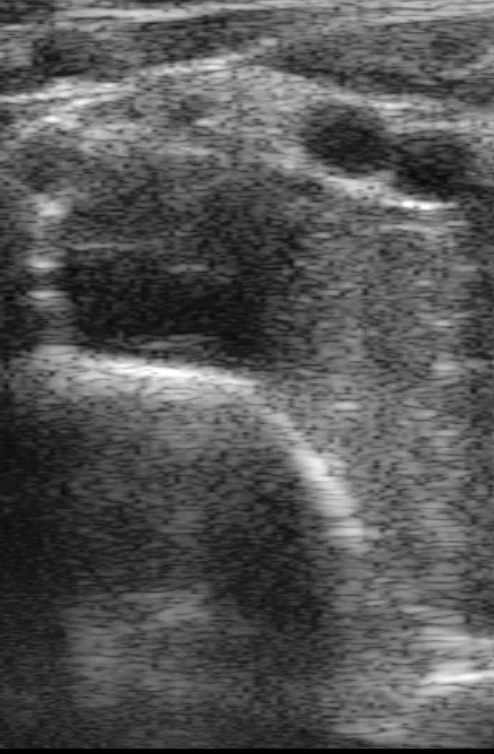veins_detect: (293, 97, 398, 183), (386, 126, 483, 211)
veins_seg: (300, 104, 477, 200)
